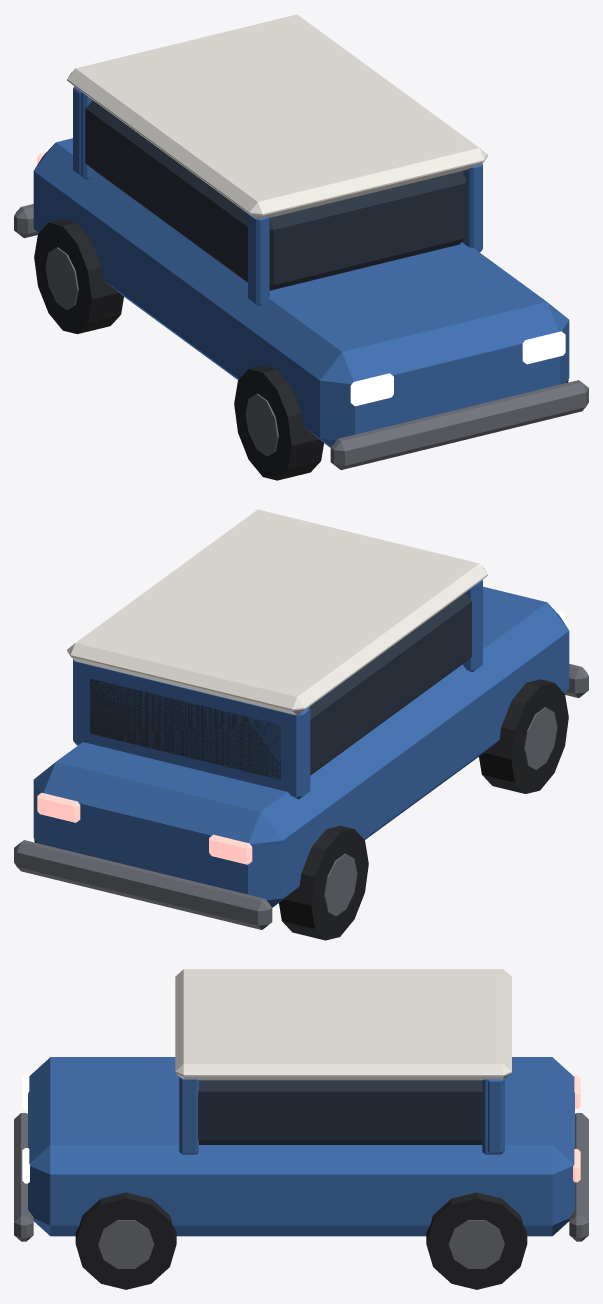
Rendered from carro_azul.glb.
The picture shows the model from 3 angles, top to bottom: view 1: azimuth 30°, elevation 25°; view 2: azimuth 150°, elevation 25°; view 3: azimuth 270°, elevation 25°; orthographic projection. The views are drawn at different scales.
Parts seen in each view (by area): view 1: carro_azul_00, carro_azul_02, carro_azul_01, carro_azul_03, carro_azul_06, carro_azul_04; view 2: carro_azul_00, carro_azul_02, carro_azul_01, carro_azul_03, carro_azul_06, carro_azul_05; view 3: carro_azul_00, carro_azul_02, carro_azul_01, carro_azul_06, carro_azul_03, carro_azul_04, carro_azul_05.
Boxes of the visible parts, bbox=[...] form: carro_azul_00: bbox=[33, 86, 569, 447]; carro_azul_02: bbox=[67, 14, 487, 218]; carro_azul_01: bbox=[85, 100, 466, 290]; carro_azul_03: bbox=[14, 204, 588, 469]; carro_azul_06: bbox=[34, 219, 568, 480]; carro_azul_04: bbox=[350, 331, 565, 406]; carro_azul_00: bbox=[33, 580, 569, 907]; carro_azul_02: bbox=[67, 509, 487, 715]; carro_azul_01: bbox=[90, 593, 471, 779]; carro_azul_03: bbox=[14, 664, 588, 929]; carro_azul_06: bbox=[34, 679, 568, 940]; carro_azul_05: bbox=[37, 792, 252, 864]; carro_azul_00: bbox=[28, 1057, 574, 1236]; carro_azul_02: bbox=[175, 969, 511, 1080]; carro_azul_01: bbox=[198, 1080, 483, 1144]; carro_azul_06: bbox=[75, 1192, 527, 1289]; carro_azul_03: bbox=[14, 1113, 588, 1268]; carro_azul_04: bbox=[22, 1074, 29, 1183]; carro_azul_05: bbox=[573, 1075, 580, 1182].
Size of the model in its own units: 2.02 by 1.68 by 4.1.
